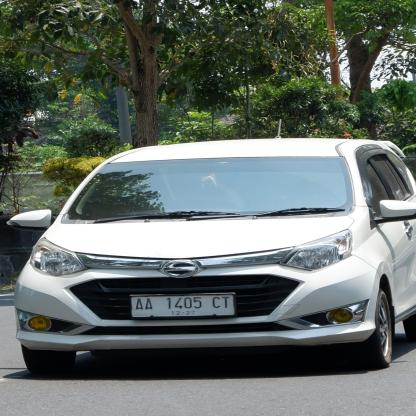Plat-Nomor: (125, 290, 241, 320)
